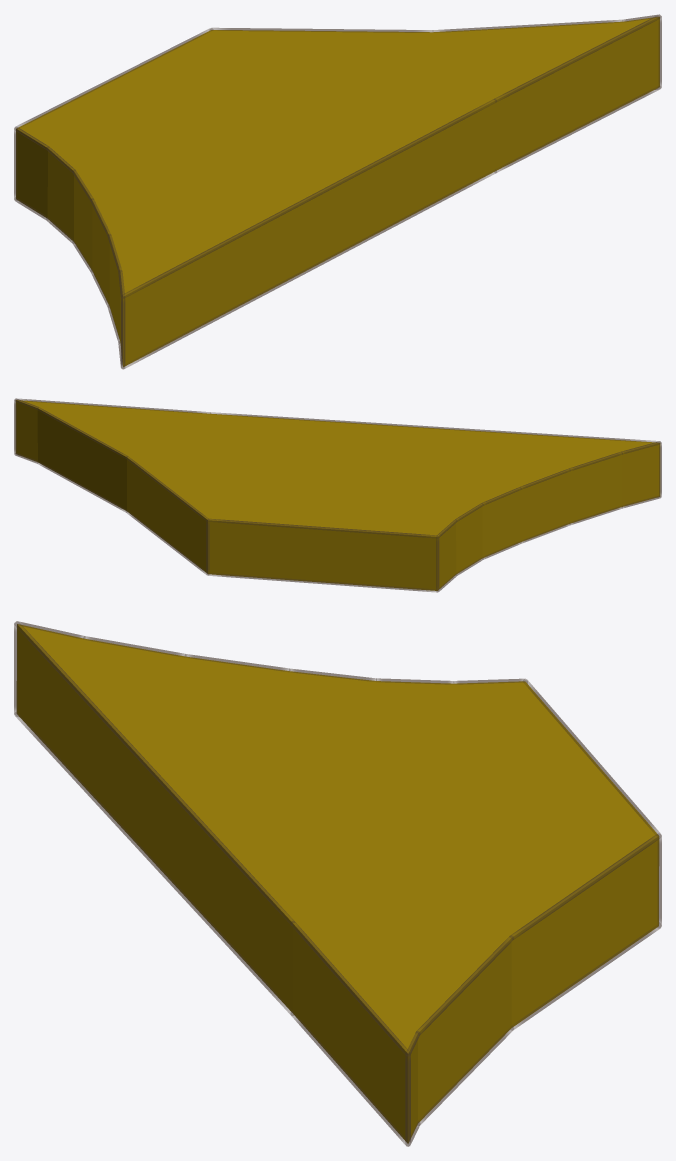
The model's file is 地铁13号线宗海.glb.
3 views of the same model, one above another, from view 1: azimuth 30°, elevation 25°; view 2: azimuth 150°, elevation 25°; view 3: azimuth 270°, elevation 25° (orthographic). The views are drawn at different scales.
Parts seen in each view (by area): view 1: 地铁13号线宗海; view 2: 地铁13号线宗海; view 3: 地铁13号线宗海.
Part boxes in pixels (x1,y1,x2,y2): 地铁13号线宗海: (14,14,661,369); 地铁13号线宗海: (14,398,661,592); 地铁13号线宗海: (14,621,661,1146).
Bounding box in the file's own units: 90.4 × 9.33 × 57.26.
2 materials, 1 textured.
